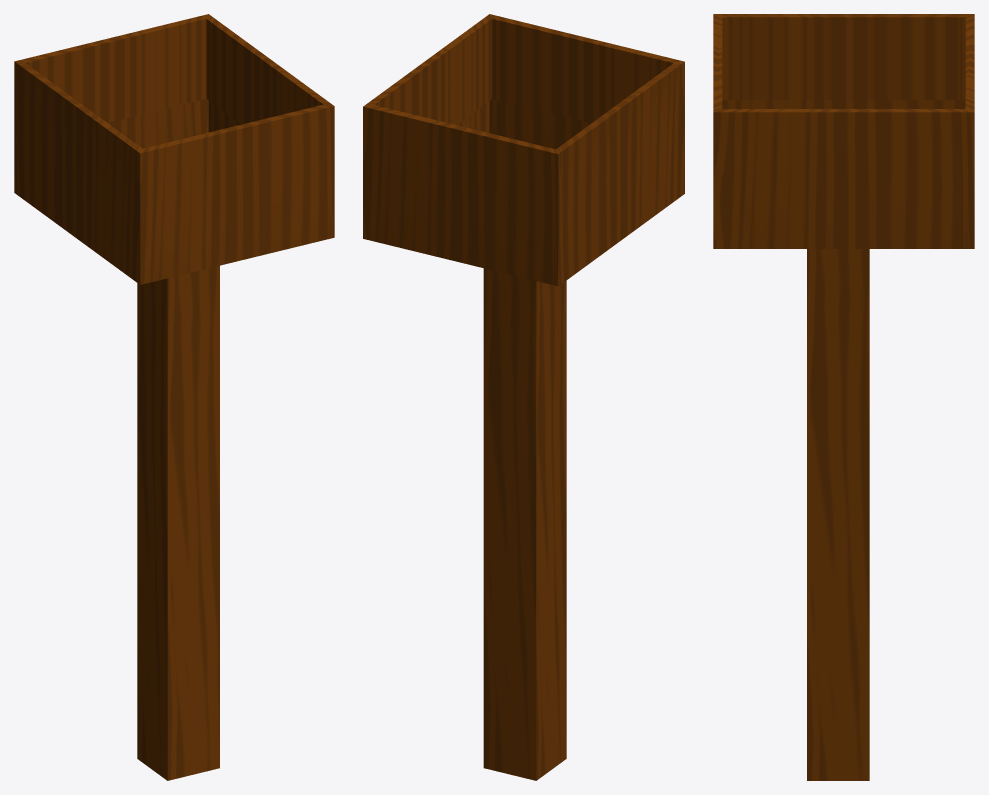
The model's file is Level2-5-BottomPart.fbx.
3 renders of one model, left to right at view 1: azimuth 30°, elevation 25°; view 2: azimuth 150°, elevation 25°; view 3: azimuth 270°, elevation 25°, orthographic. The views are drawn at different scales.
Parts seen in each view (by area): view 1: Cube.010; view 2: Cube.010; view 3: Cube.010.
Boxes of the visible parts, <box> form: Cube.010: <box>14,14,334,780</box>; Cube.010: <box>363,14,684,780</box>; Cube.010: <box>713,14,974,780</box>.
Size of the model in its own units: 742 by 2475 by 833.
